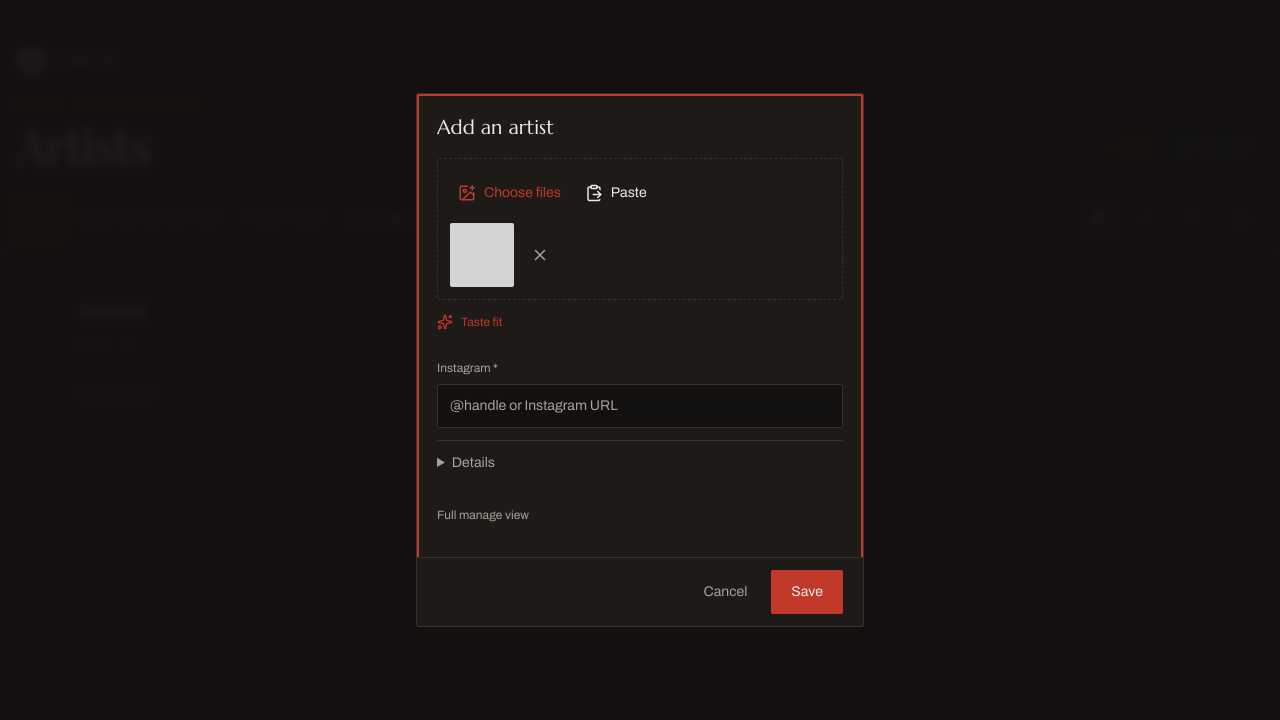
Test case: quick-add stages its screenshot (#110, #115) › signed out, retains the photo without claiming a durable save
Expected: the button "Save" is enabled, [771,570,843,614]
Step 1. Type "new.artist" into the field with placeholder "@handle or Instagram URL" → (640, 406), box [437,384,843,428]
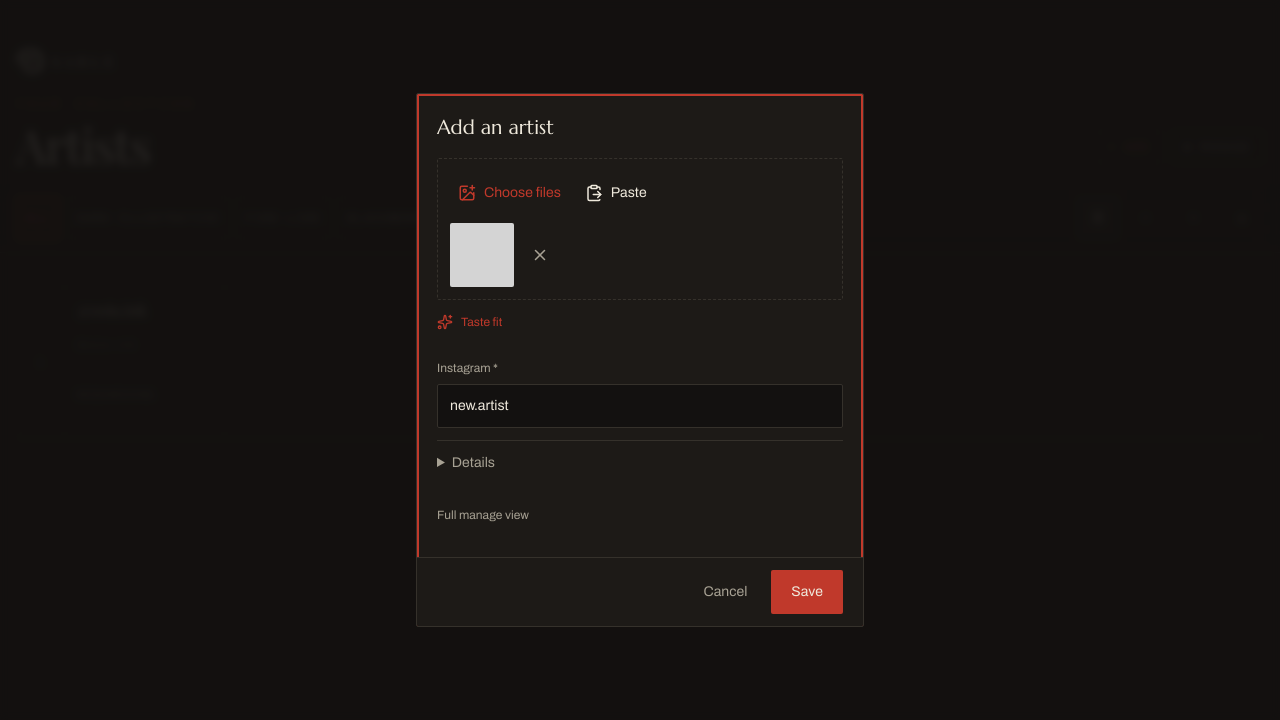
Step 2. Click the button "Save" → (807, 592), box [771,570,843,614]
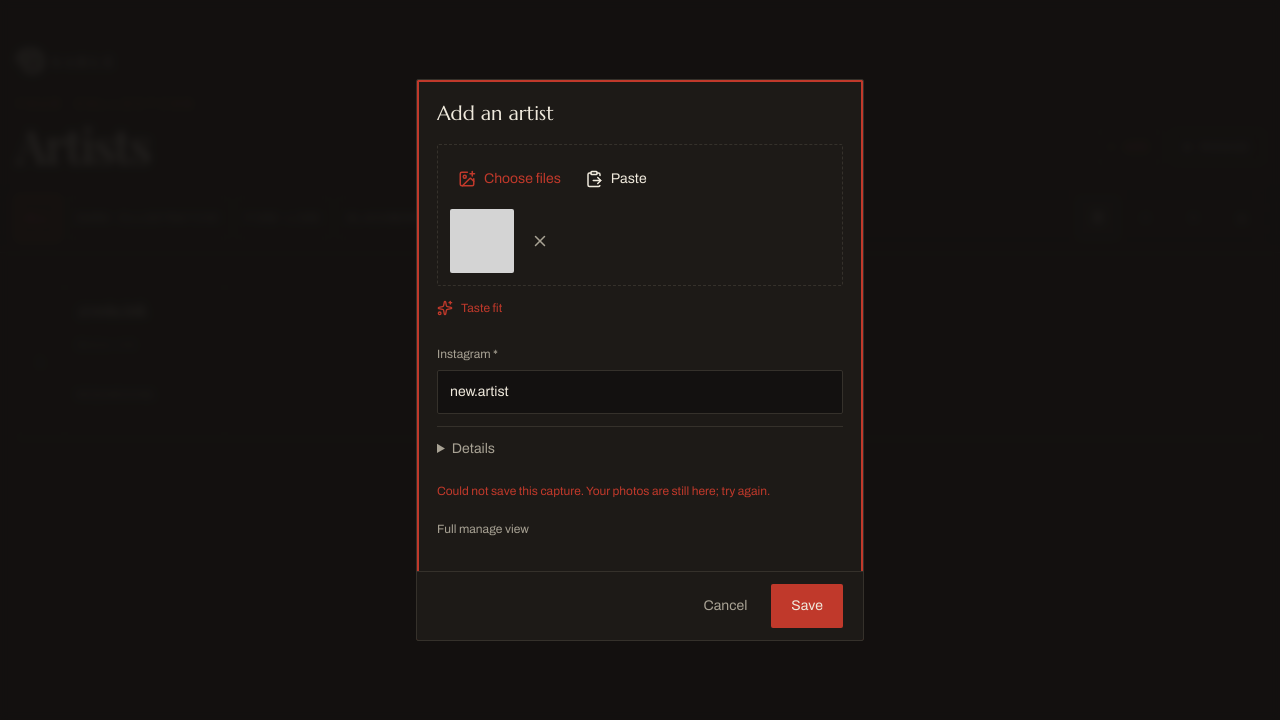
Expected: the message shows "try again", [437,484,770,498]
